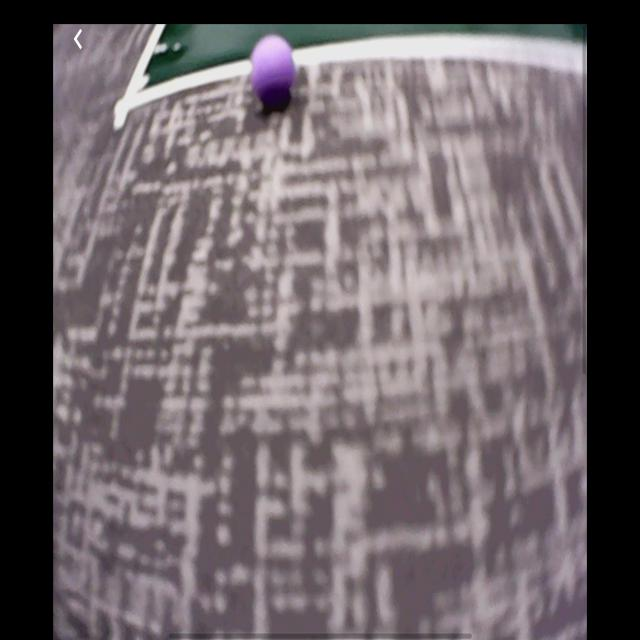ball: (250, 33, 297, 115)
